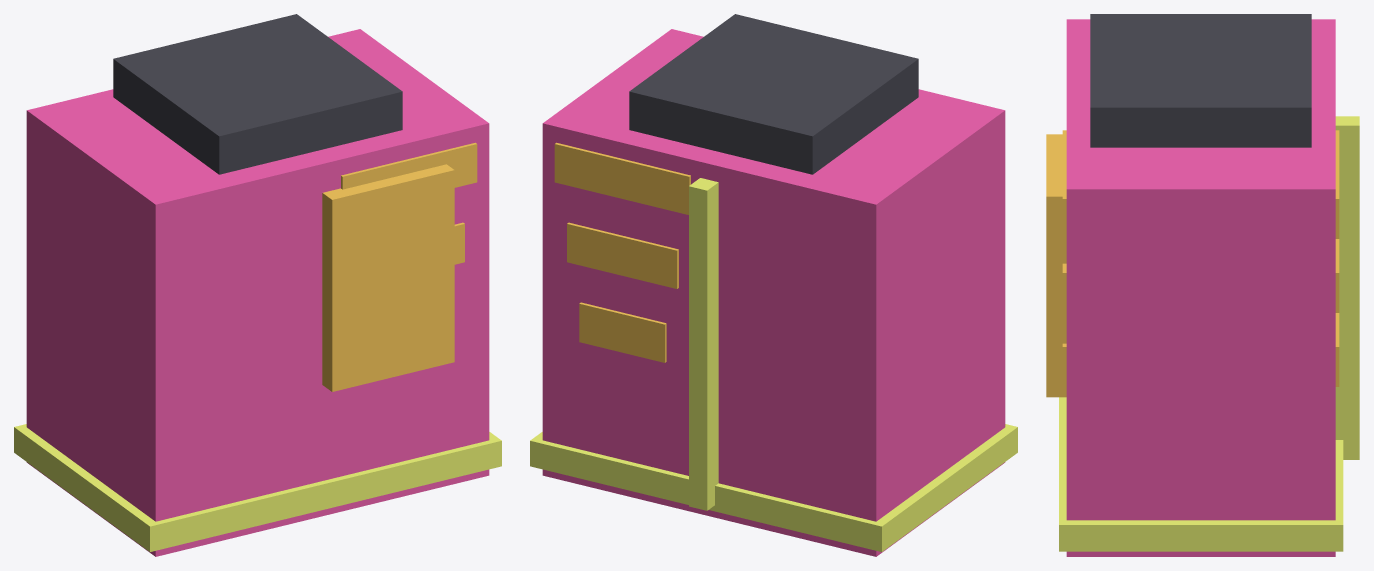
File: ciclista_tronco.glb
3 renders of one model, left to right at view 1: azimuth 30°, elevation 25°; view 2: azimuth 150°, elevation 25°; view 3: azimuth 270°, elevation 25°, orthographic. The views are drawn at different scales.
Parts seen in each view (by area): view 1: ciclista_tronco; view 2: ciclista_tronco; view 3: ciclista_tronco.
Boxes of the visible parts, x1,y1,x2,y2 form: ciclista_tronco: (14, 14, 501, 556); ciclista_tronco: (530, 14, 1017, 556); ciclista_tronco: (1046, 14, 1359, 556).
Size of the model in its own units: 0.575 by 0.615 by 0.425.
